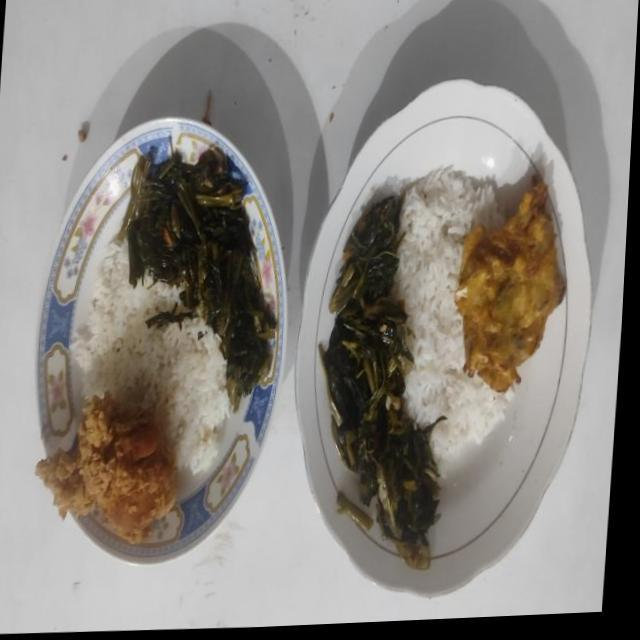nasi_putih: (392, 165, 513, 469), (72, 242, 230, 472)
tumis_kangkung: (318, 191, 445, 568), (117, 135, 279, 411)
